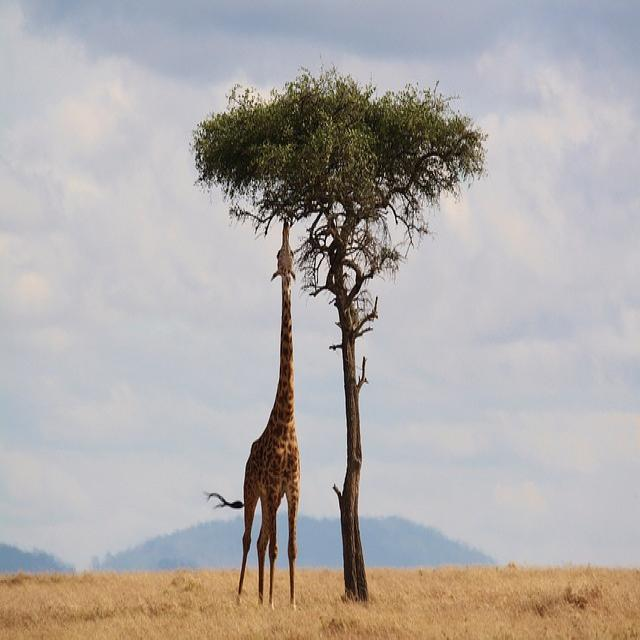Herbivorous: (244, 225, 301, 609)
